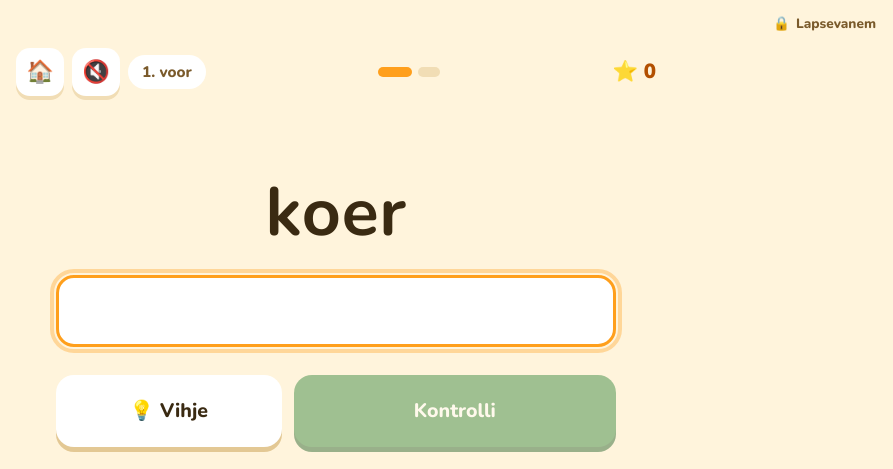
Test case: training screen › praises a correct answer and moves on to the next word
Expected: the text "koer" is shown, [265, 176, 407, 251]
Type "dog" into the field named "Sinu vastus". click: x=336, y=311
box: [56, 275, 616, 347]
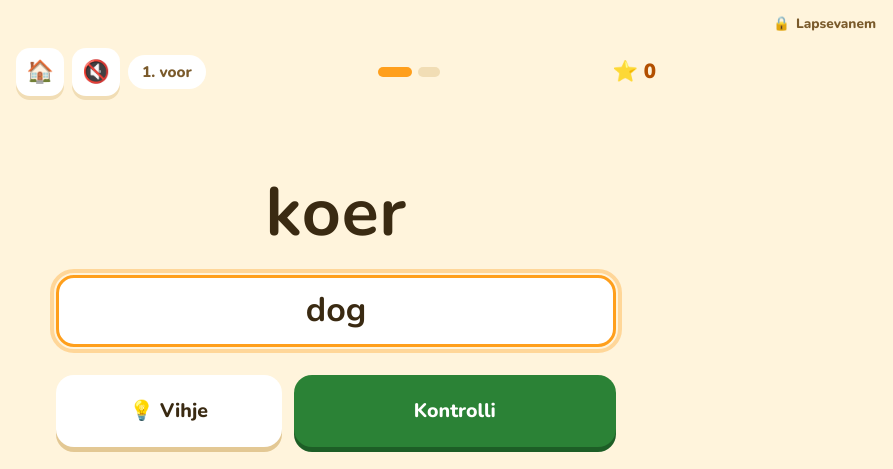
Click the button "Kontrolli". click: x=455, y=411
box: [294, 375, 616, 447]
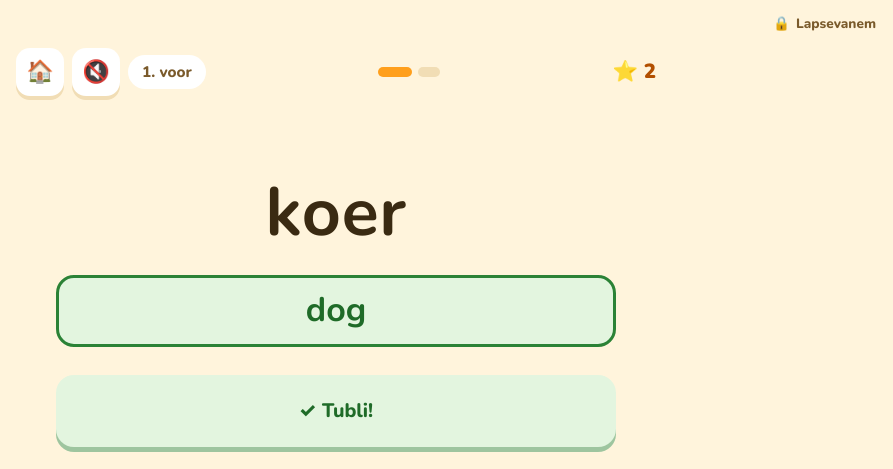
Result: the field named "Sinu vastus" has class "is-correct" at [56, 275, 616, 347]
Click the button "✓ Tubli!". click: x=336, y=411
box: [56, 375, 616, 447]
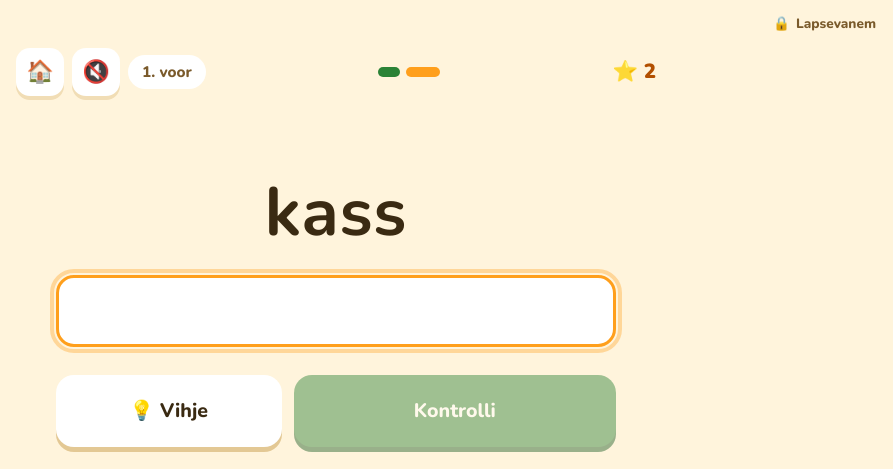
Result: the text "kass" is shown at [265, 176, 407, 251]
